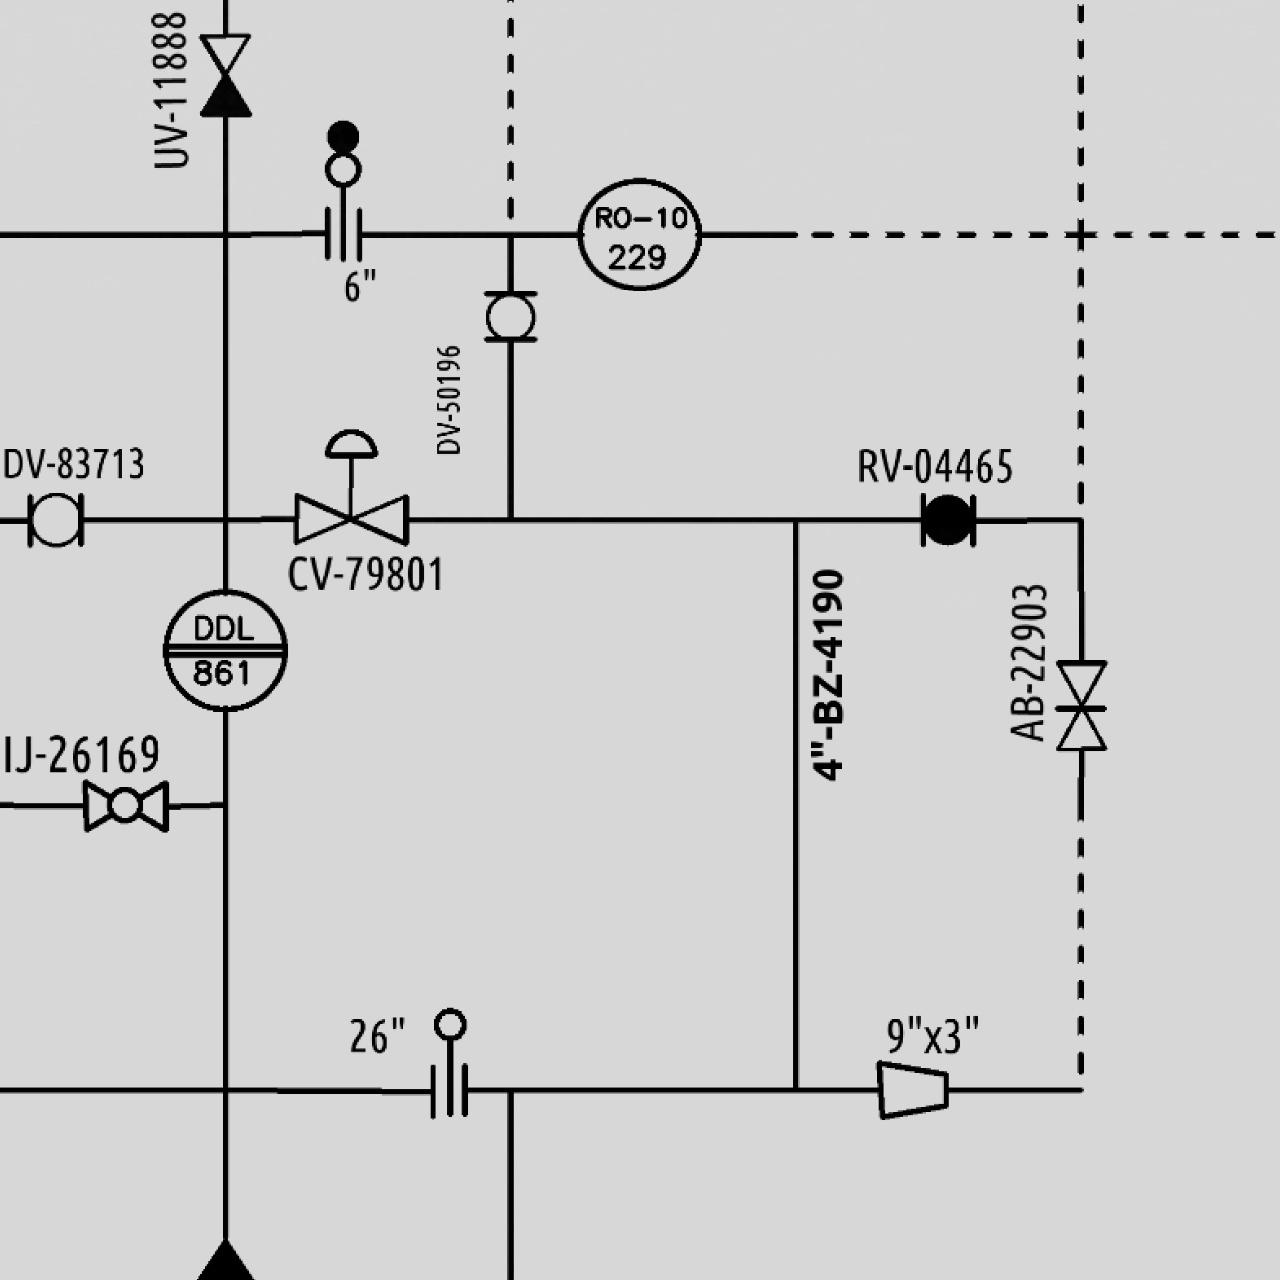Control-Panel: (573, 166, 704, 299), (158, 584, 290, 716)
Half closed valve: (195, 28, 254, 120)
